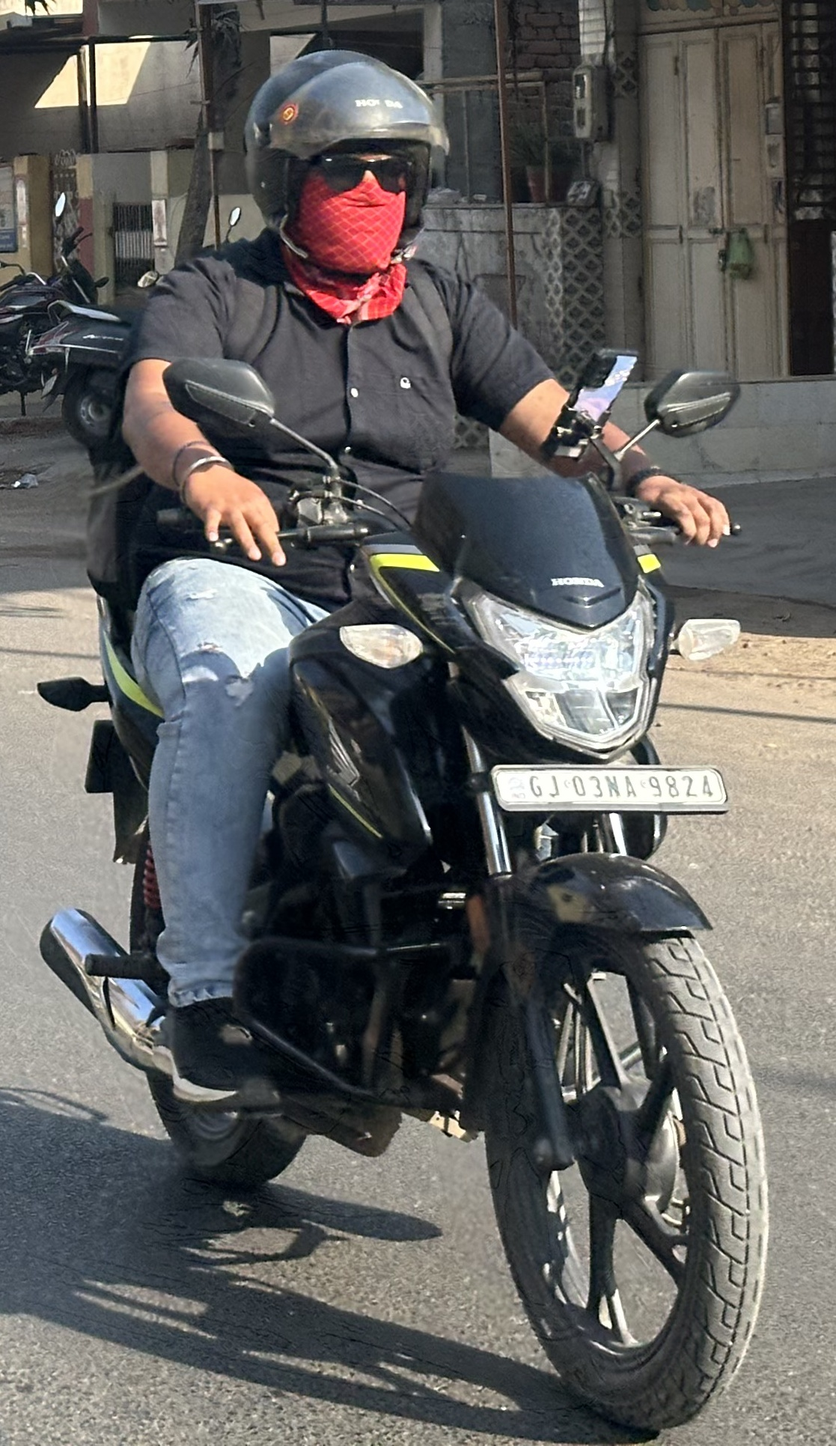BikeWithRider: (24, 37, 796, 1439)
NoHelmet: (231, 40, 454, 283)
